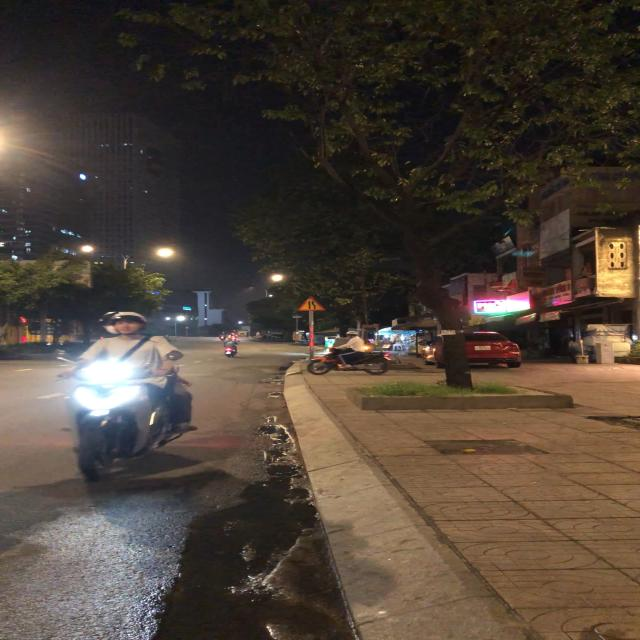Bien bao duong bi thu hep: (293, 294, 329, 314)
